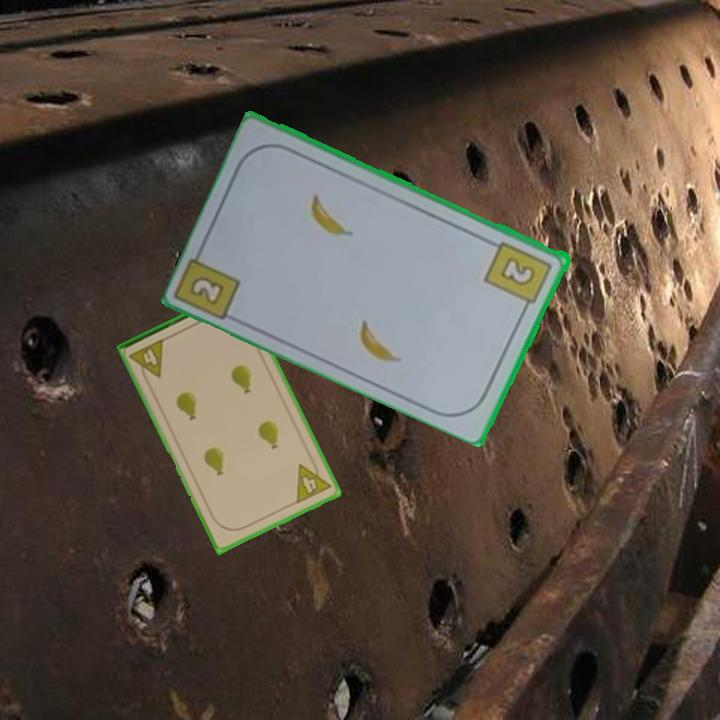2b: (482, 237, 556, 314), (190, 275, 228, 308)
4p: (292, 455, 334, 507), (126, 335, 167, 385)
